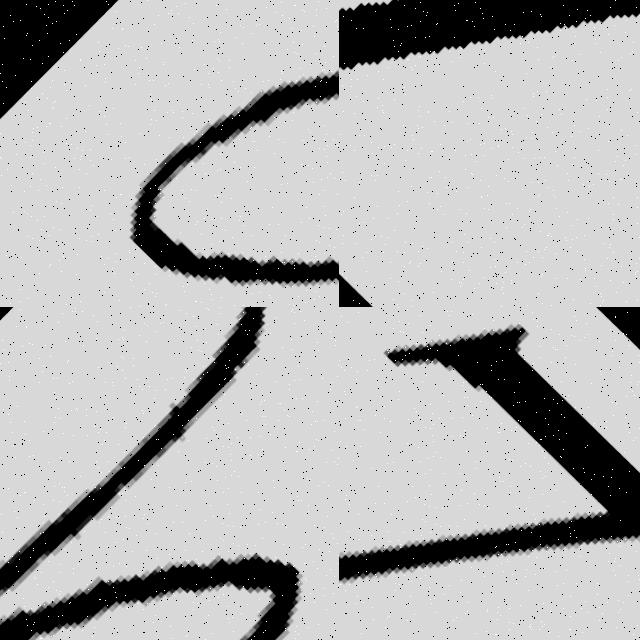7: (339, 307, 640, 640), (339, 0, 640, 307)
G: (0, 0, 339, 307)
H: (0, 307, 270, 610), (0, 552, 307, 640)
